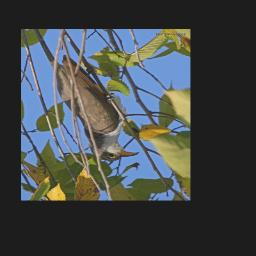Cuckoo: (55, 54, 160, 161)
